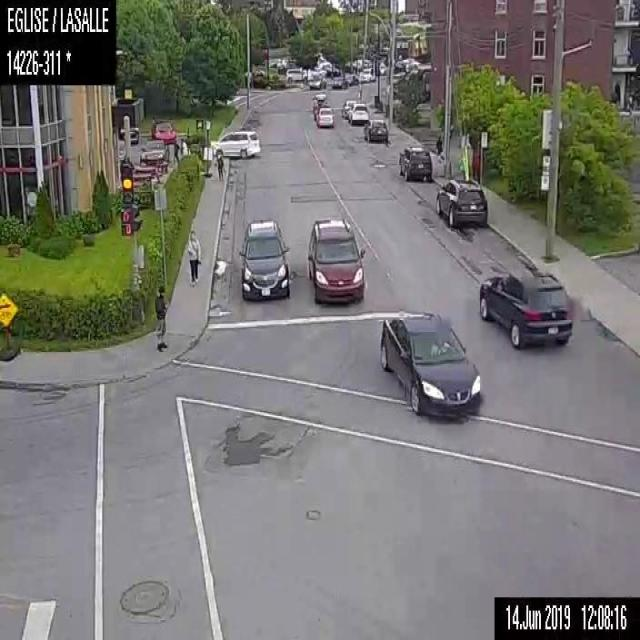pedestrian: (153, 284, 167, 349), (187, 231, 202, 285), (432, 133, 443, 164), (170, 136, 180, 165), (216, 155, 223, 181)
vehicle: (378, 309, 480, 416), (477, 268, 572, 349), (304, 216, 366, 303), (238, 216, 291, 301), (434, 176, 487, 228), (210, 129, 260, 159), (397, 146, 431, 182), (140, 137, 166, 164), (150, 119, 177, 141), (347, 101, 369, 124), (365, 118, 387, 141), (316, 105, 334, 127), (308, 72, 326, 89), (284, 67, 306, 80), (329, 75, 346, 89), (359, 65, 373, 82), (312, 90, 326, 106), (341, 99, 351, 116)
